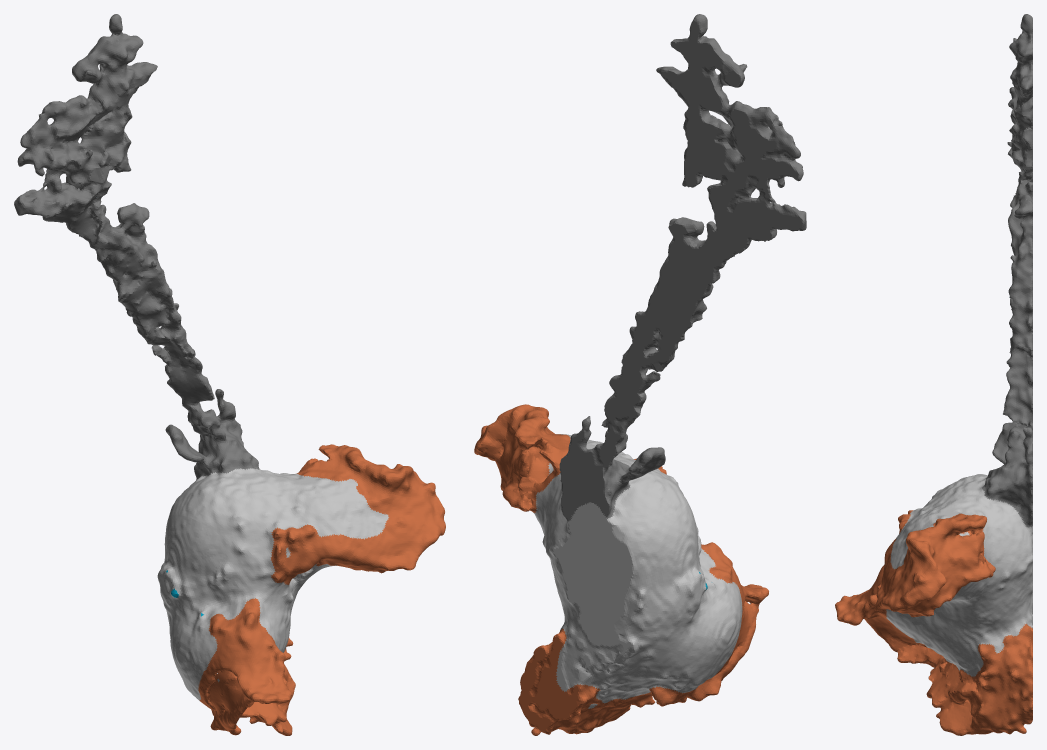
3 renders of one model, left to right at view 1: azimuth 30°, elevation 25°; view 2: azimuth 150°, elevation 25°; view 3: azimuth 270°, elevation 25°, orthographic. The views are drawn at different scales.
Size of the model in its own units: 193 by 366 by 99.48.
